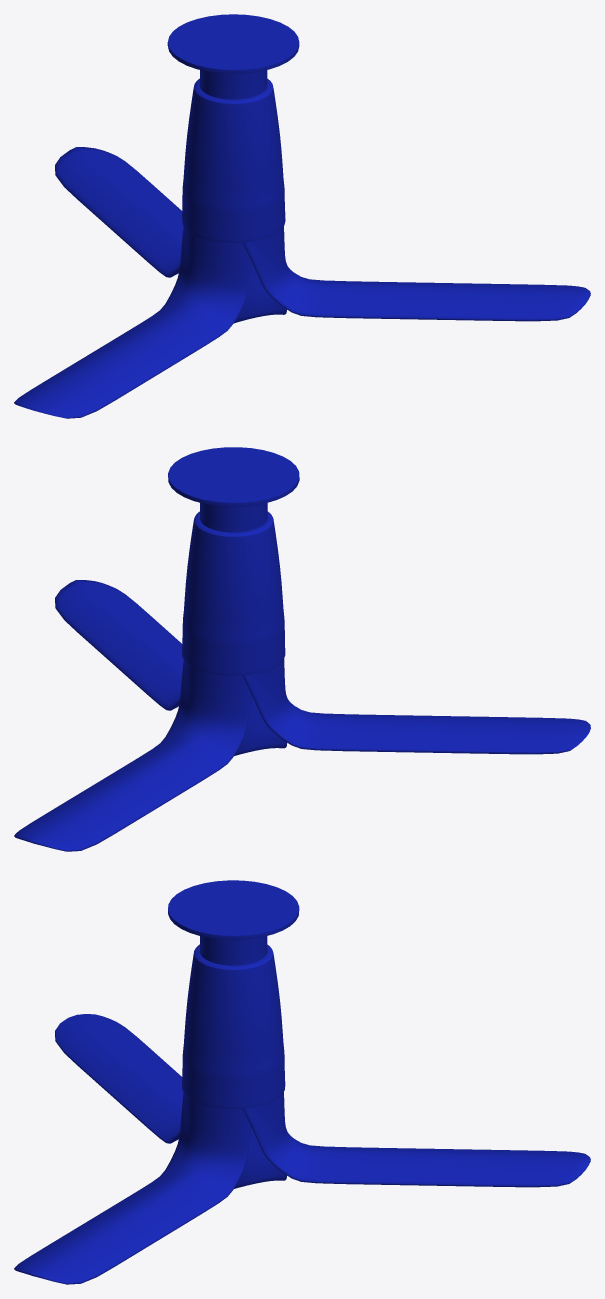
Rendered from crompton.fbx.
The picture shows the model from 3 angles, top to bottom: view 1: azimuth 30°, elevation 25°; view 2: azimuth 150°, elevation 25°; view 3: azimuth 270°, elevation 25°; orthographic projection.
Parts seen in each view (by area): view 1: Cylinder.001, Plane.003, Plane.001, Plane.002, Cylinder; view 2: Cylinder.001, Plane.002, Plane.003, Plane.001, Cylinder; view 3: Cylinder.001, Plane.001, Plane.002, Plane.003, Cylinder.
Part boxes in pixels (bbox=[...]): Cylinder.001: bbox=[167, 14, 299, 242]; Plane.003: bbox=[14, 226, 251, 418]; Plane.001: bbox=[242, 226, 590, 321]; Plane.002: bbox=[55, 147, 183, 277]; Cylinder: bbox=[233, 261, 286, 323]; Cylinder.001: bbox=[168, 447, 299, 675]; Plane.002: bbox=[14, 660, 251, 851]; Plane.003: bbox=[242, 658, 590, 754]; Plane.001: bbox=[55, 580, 183, 710]; Cylinder: bbox=[234, 694, 287, 755]; Cylinder.001: bbox=[168, 880, 299, 1108]; Plane.001: bbox=[14, 1093, 251, 1284]; Plane.002: bbox=[242, 1092, 590, 1187]; Plane.003: bbox=[55, 1014, 183, 1143]; Cylinder: bbox=[234, 1127, 286, 1188].
Size of the model in its own units: 114 by 53.77 by 104.
